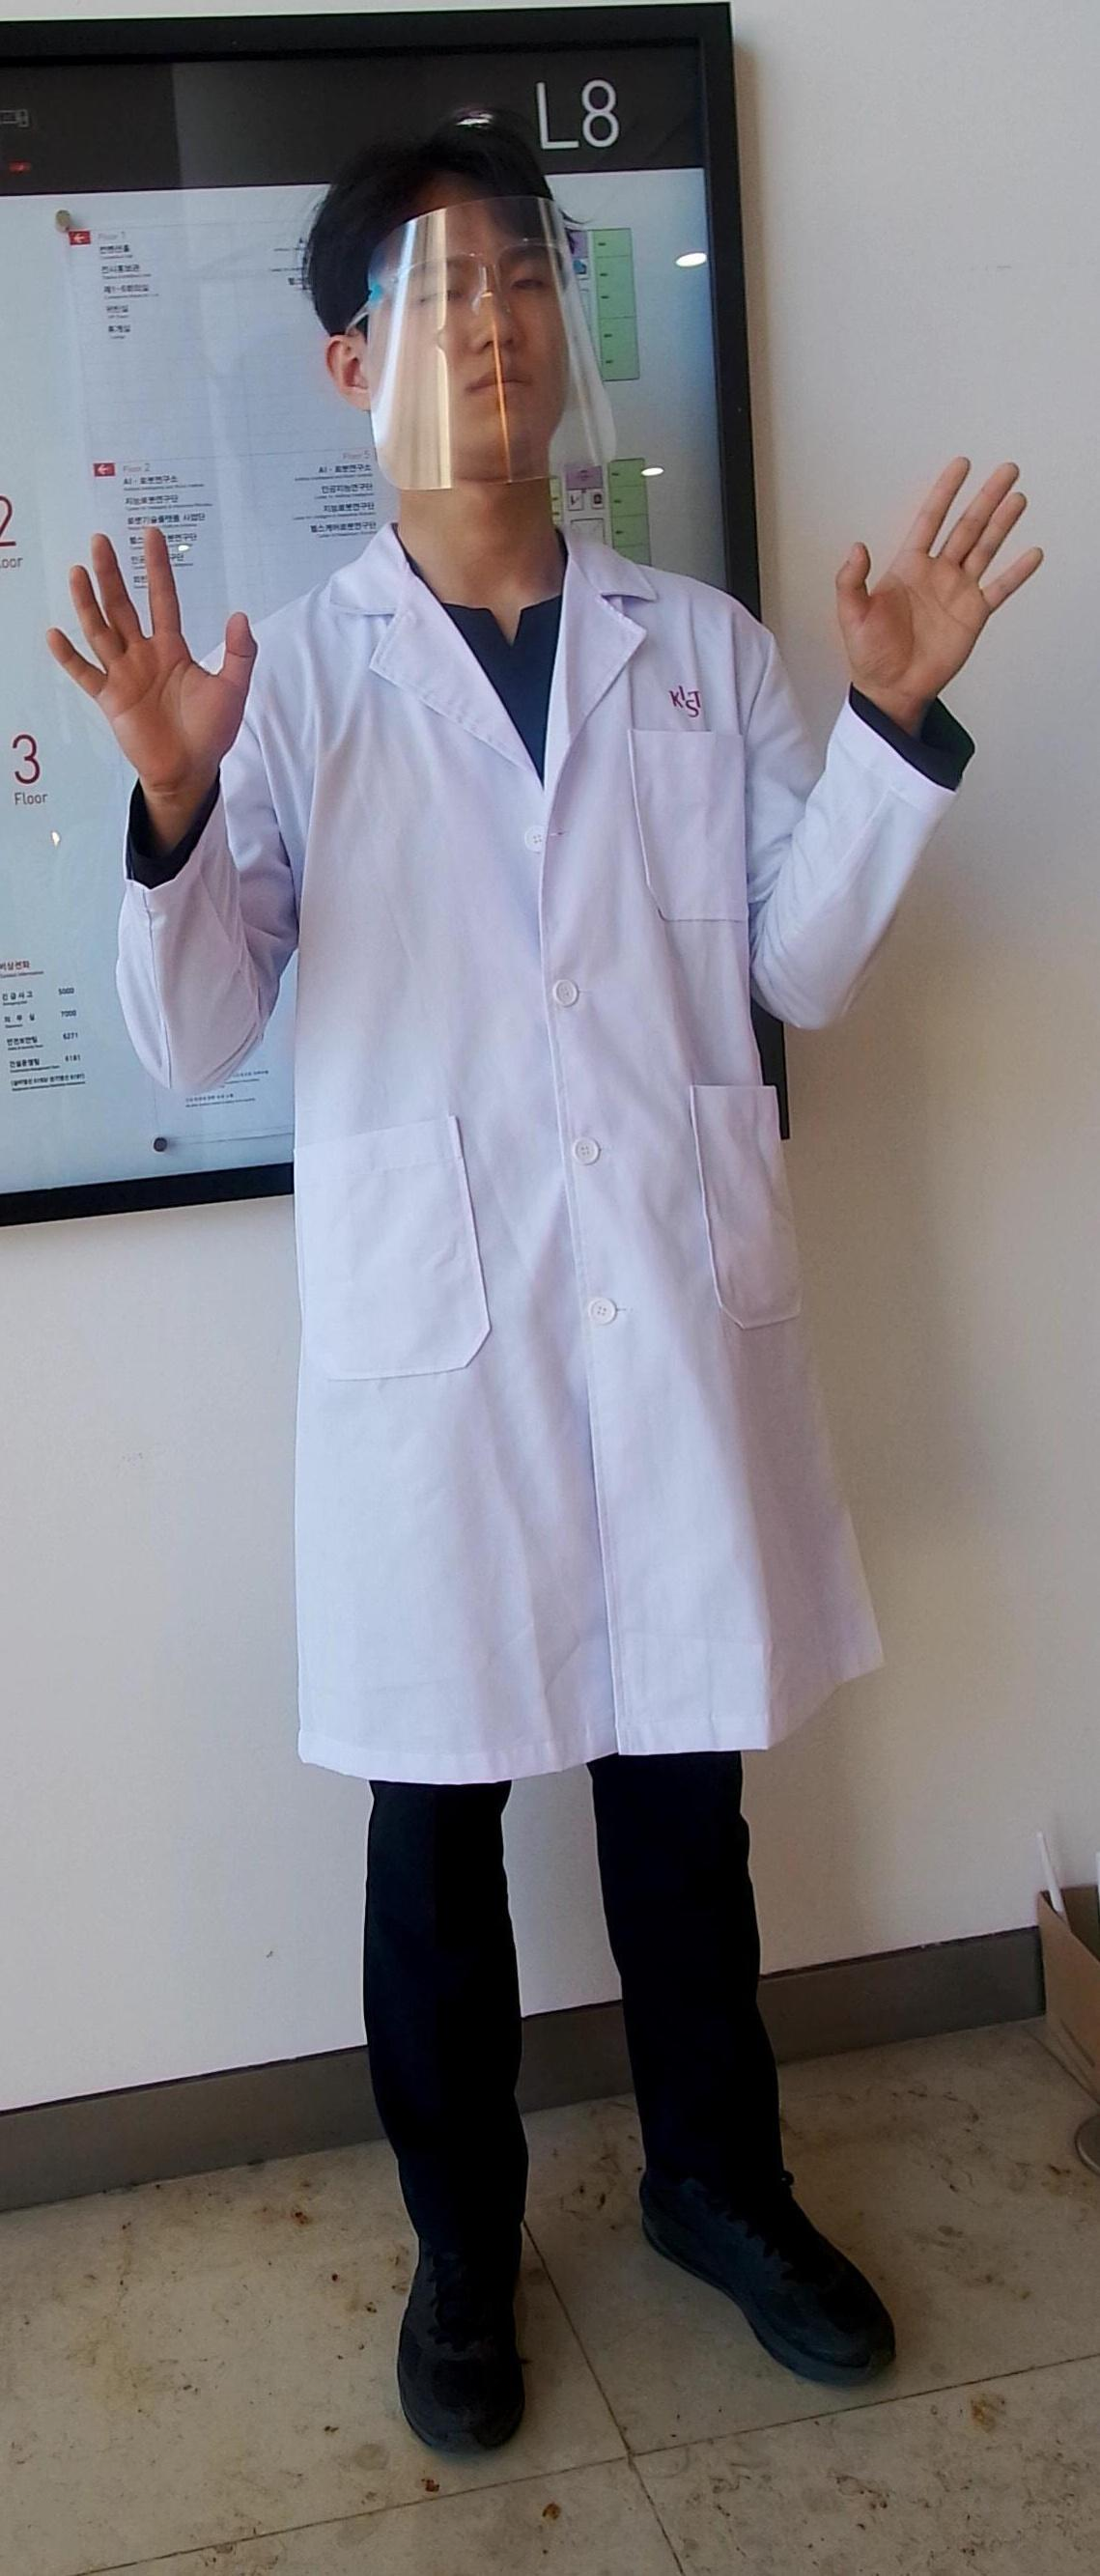lab_coat: (281, 605, 806, 1776)
